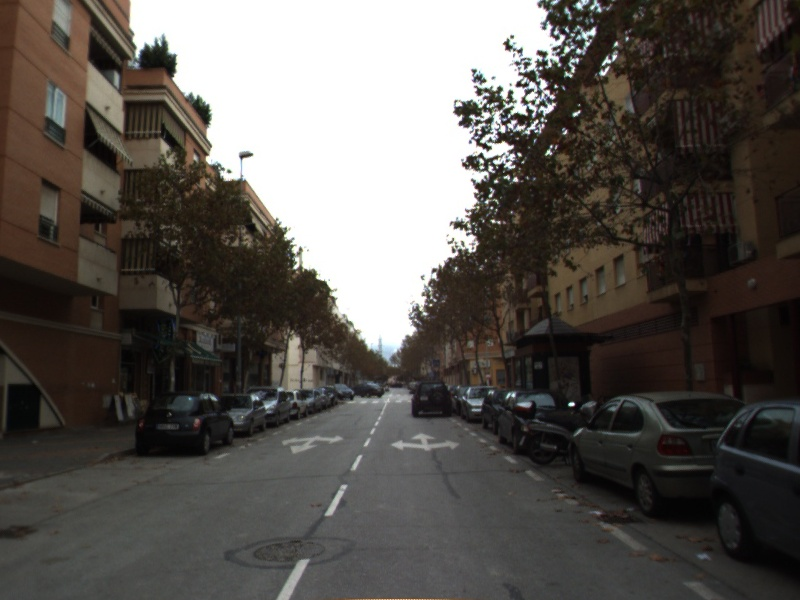STRAIGHT_LEFT_RIGHT: (388, 430, 462, 453)
